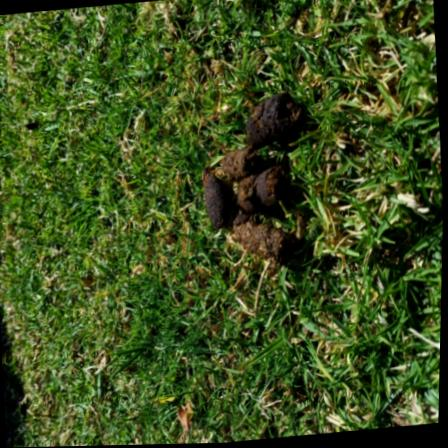dog-poop: (186, 71, 322, 279)
